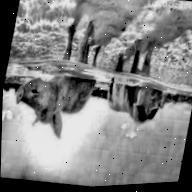boar: (9, 15, 113, 149), (98, 38, 182, 141)
